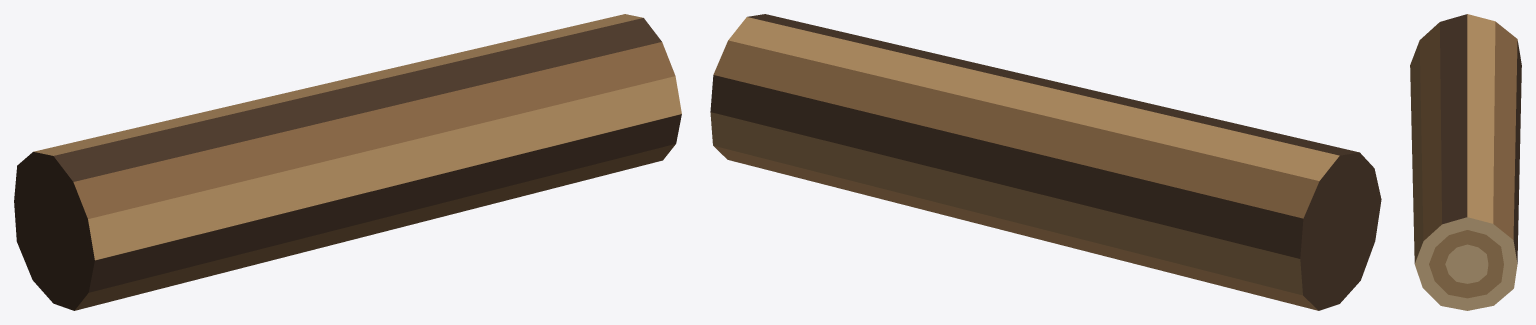
Rendered from TW_LOG_CUT_2M_A_LOD0.glb.
3 views of the same model, side by side, from view 1: azimuth 30°, elevation 25°; view 2: azimuth 150°, elevation 25°; view 3: azimuth 270°, elevation 25° (orthographic). The views are drawn at different scales.
Parts seen in each view (by area): view 1: TW_LOG_CUT_2M_A_LOD0; view 2: TW_LOG_CUT_2M_A_LOD0; view 3: TW_LOG_CUT_2M_A_LOD0.
Part boxes in pixels (x1,y1,x2,y2): TW_LOG_CUT_2M_A_LOD0: [14, 14, 681, 310]; TW_LOG_CUT_2M_A_LOD0: [710, 14, 1381, 310]; TW_LOG_CUT_2M_A_LOD0: [1410, 14, 1521, 310].
Bounding box in the file's own units: 2 × 0.478 × 0.4747.
Materials: 1 (1 with a texture image).
